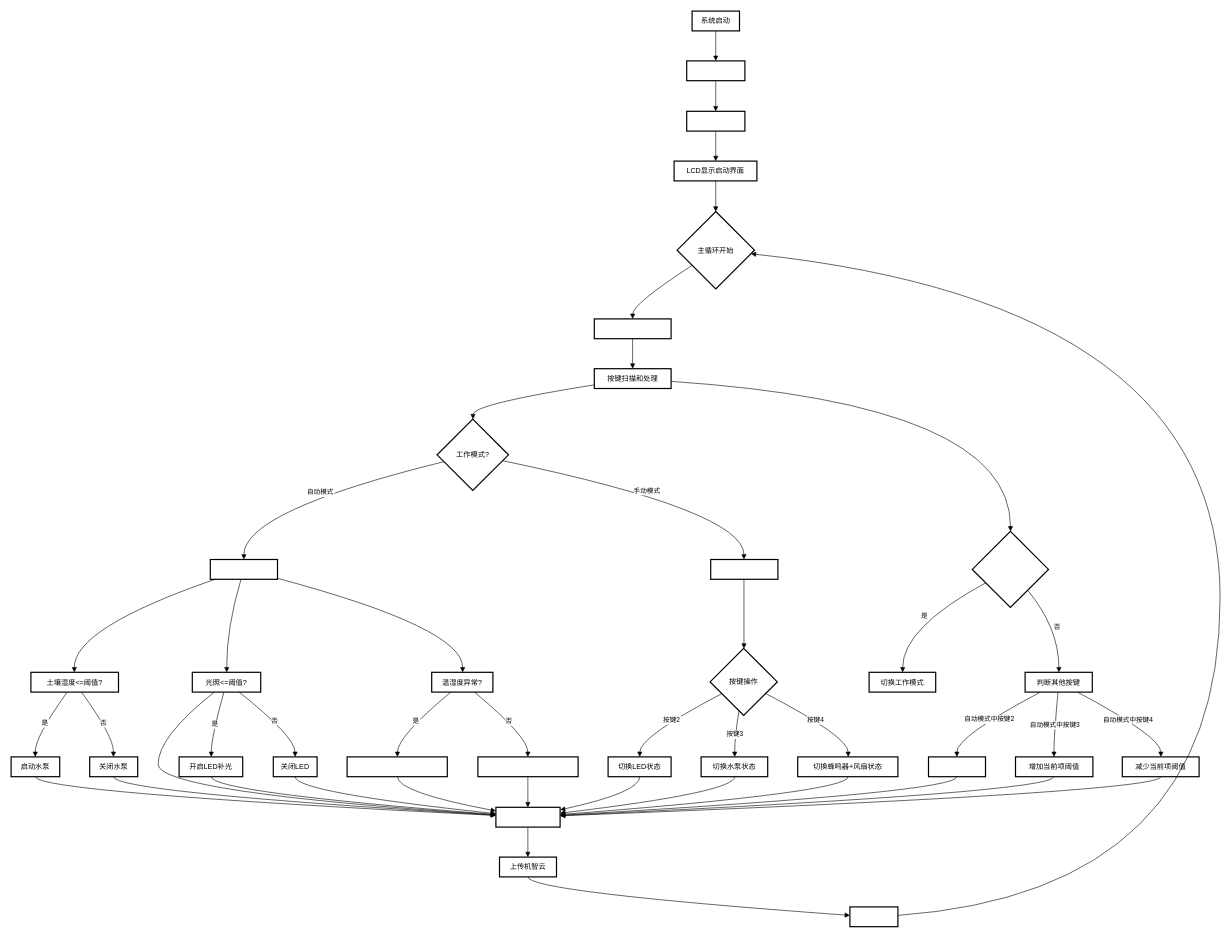
The diagram is 1231 pixels wide and 937 high, and some of its shapes have lost their labels. Here are the shapes that lost their labels. From the top down, the centre of each, then its label:
At pixel 715 70: "硬件初始化".
At pixel 715 120: "外设初始化".
At pixel 632 328: "传感器数据采集".
At pixel 243 569: "自动控制逻辑".
At pixel 744 569: "手动控制逻辑".
At pixel 1010 569: "按键1按下?".
At pixel 397 766: "蜂鸣器报警+风扇开启".
At pixel 527 766: "蜂鸣器关闭+风扇关闭".
At pixel 957 766: "切换设置项".
At pixel 527 816: "更新LCD显示".
At pixel 873 916: "状态同步".
